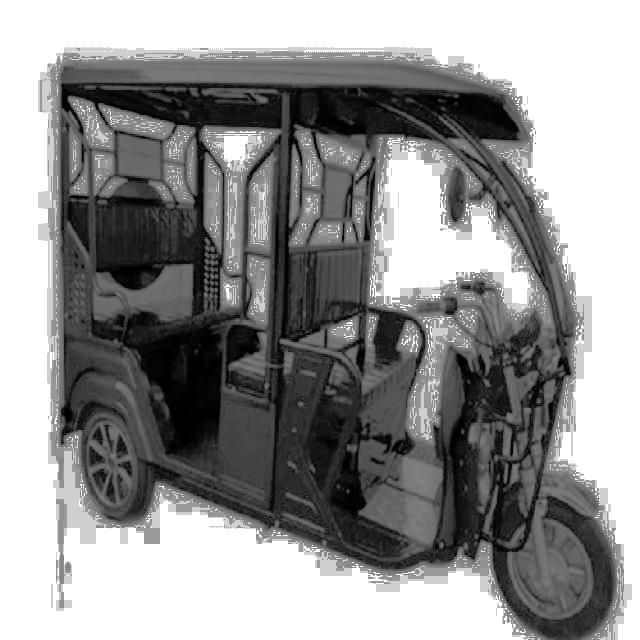Toto: (46, 47, 617, 639)
